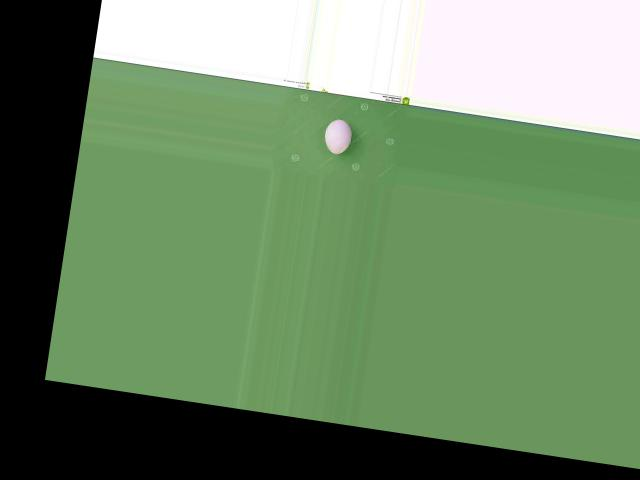egg: (322, 117, 353, 155)
